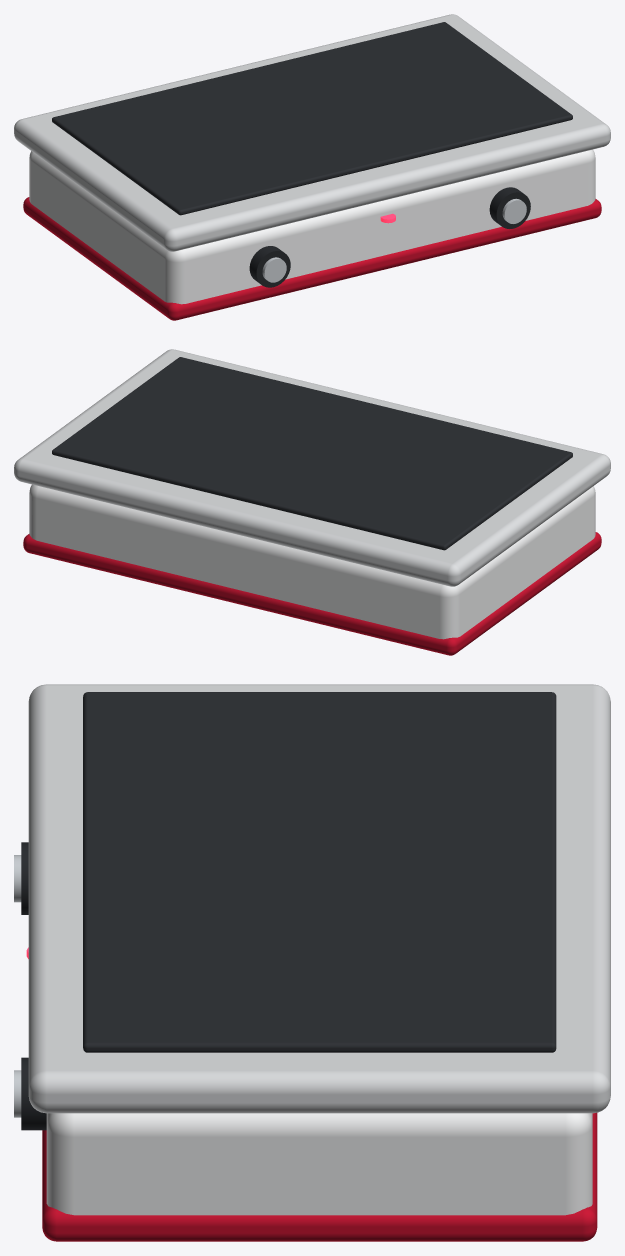
The model's file is nhp-1.glb.
3 views of the same model, one above another, from view 1: azimuth 30°, elevation 25°; view 2: azimuth 150°, elevation 25°; view 3: azimuth 270°, elevation 25° (orthographic). The views are drawn at different scales.
Size of the model in its own units: 0.52 by 0.127 by 0.328.
